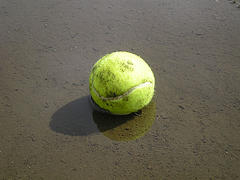tennis ball: (87, 48, 158, 117)
